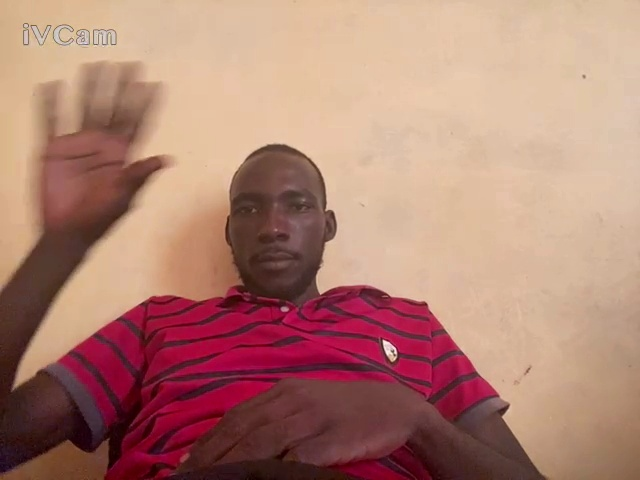Hello: (17, 56, 180, 245)
